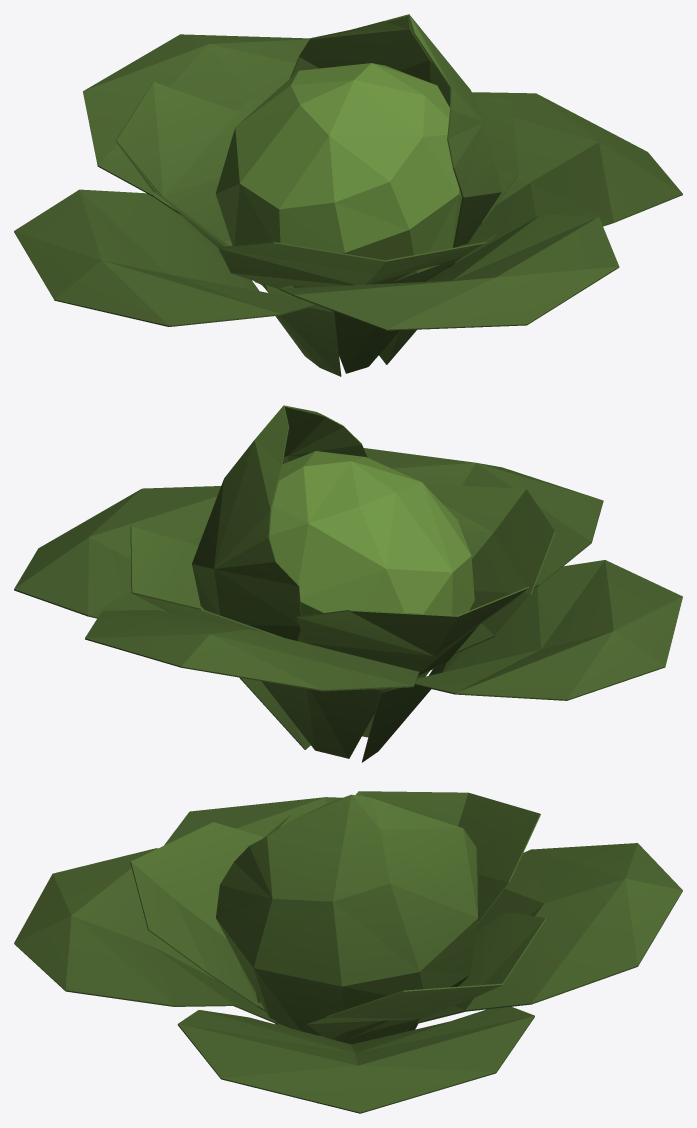
The model's file is Crop_Cabbage_STAGE_1_03.obj.
3 renders of one model, top to bottom at view 1: azimuth 30°, elevation 25°; view 2: azimuth 150°, elevation 25°; view 3: azimuth 270°, elevation 25°, orthographic.
Parts seen in each view (by area): view 1: Crop_Cabbage_STAGE_1_03; view 2: Crop_Cabbage_STAGE_1_03; view 3: Crop_Cabbage_STAGE_1_03.
Part boxes in pixels (x1,y1,x2,y2): Crop_Cabbage_STAGE_1_03: [14, 14, 682, 376]; Crop_Cabbage_STAGE_1_03: [14, 405, 682, 762]; Crop_Cabbage_STAGE_1_03: [14, 791, 682, 1113].
Size of the model in its own units: 0.513 by 0.2629 by 0.4861.
Materials: 1 (1 with a texture image).
